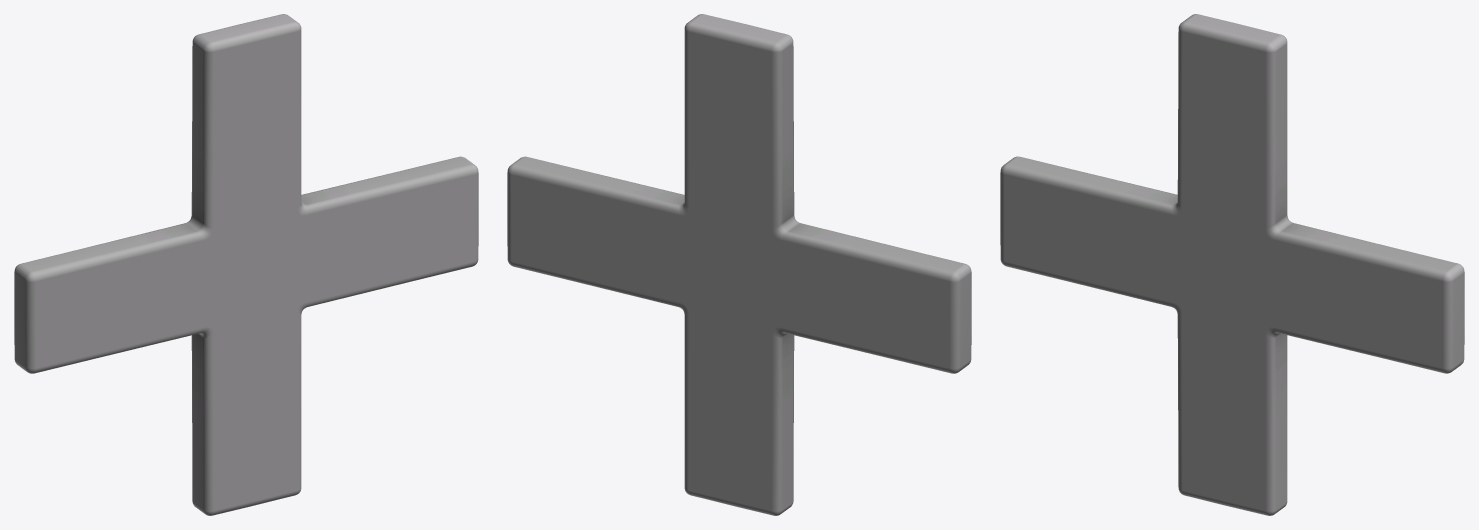
File: Plus.fbx
3 views of the same model, side by side, from view 1: azimuth 30°, elevation 25°; view 2: azimuth 150°, elevation 25°; view 3: azimuth 330°, elevation 25° (orthographic).
Parts seen in each view (by area): view 1: node_id30; view 2: node_id30; view 3: node_id30.
Boxes of the visible parts, bbox=[...] form: node_id30: bbox=[14, 14, 478, 515]; node_id30: bbox=[507, 14, 971, 515]; node_id30: bbox=[1000, 14, 1464, 515].
Bounding box in the file's own units: 0.512 × 0.512 × 0.0344.
1 material, 1 textured.
